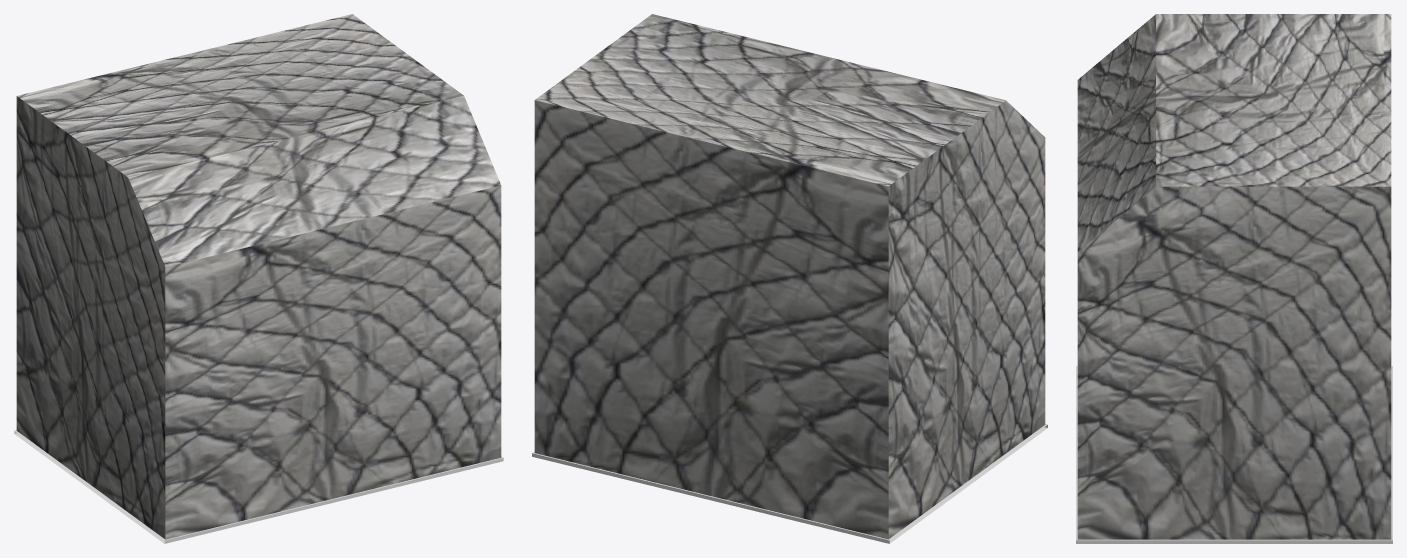
File: Q7Contour(3).fbx
The picture shows the model from 3 angles, left to right: view 1: azimuth 30°, elevation 25°; view 2: azimuth 150°, elevation 25°; view 3: azimuth 270°, elevation 25°; orthographic projection. The views are drawn at different scales.
Parts seen in each view (by area): view 1: Cube.005; view 2: Cube.005; view 3: Cube.005.
Boxes of the visible parts, x1,y1,x2,y2 form: Cube.005: [14, 14, 503, 543]; Cube.005: [532, 14, 1047, 543]; Cube.005: [1076, 14, 1392, 543].
Size of the model in its own units: 318 by 303 by 244.
2 materials, 1 textured.
